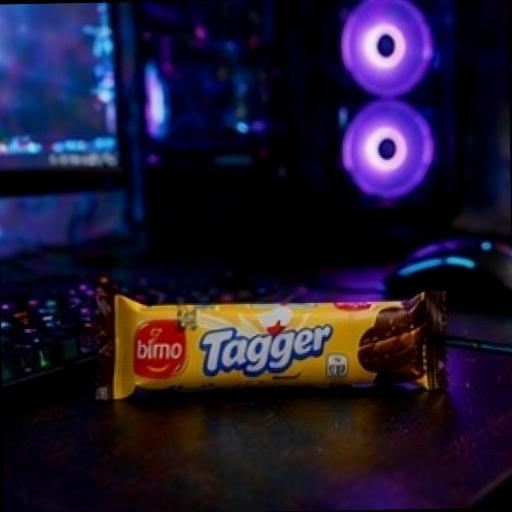tagger: (58, 191, 470, 509)
